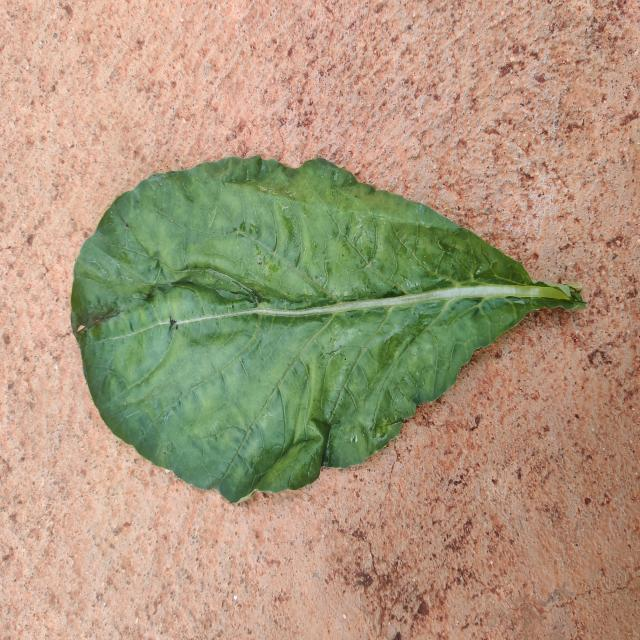leaf: (69, 153, 587, 504)
